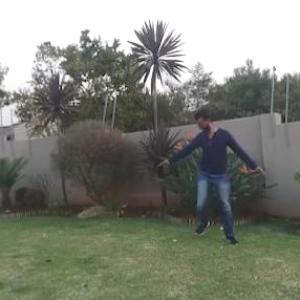land: (140, 98, 270, 258)
